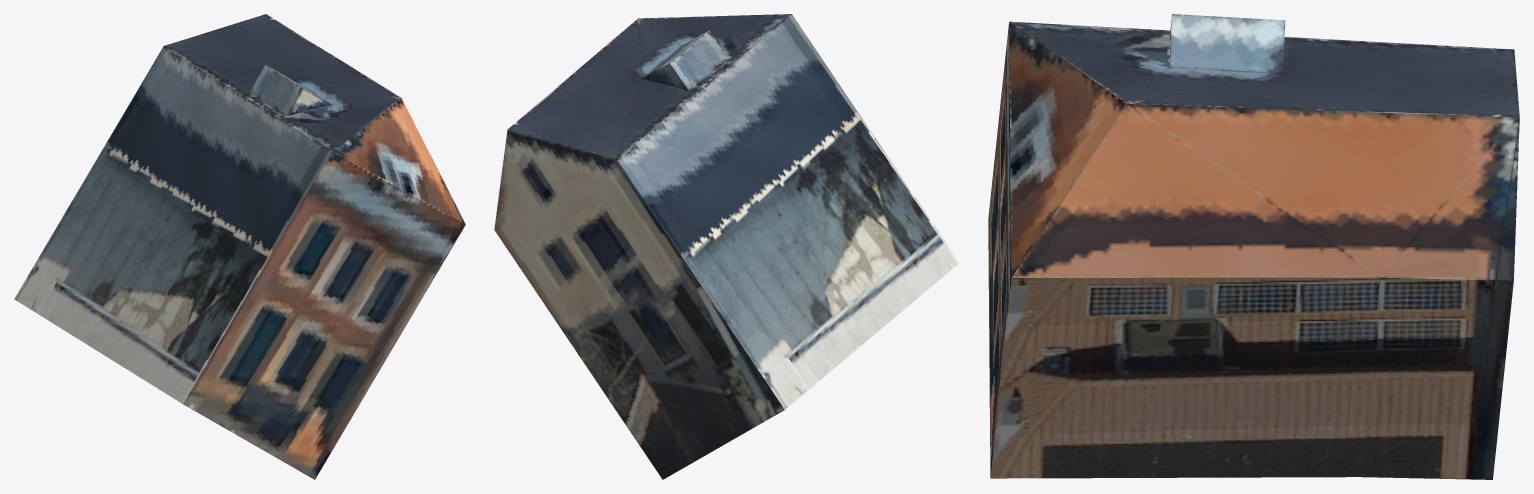
The picture shows the model from 3 angles, left to right: view 1: azimuth 30°, elevation 25°; view 2: azimuth 150°, elevation 25°; view 3: azimuth 270°, elevation 25°; orthographic projection. The views are drawn at different scales.
Parts seen in each view (by area): view 1: BAG_0599100000670784 (×6); view 2: BAG_0599100000670784 (×5); view 3: BAG_0599100000670784 (×4).
Boxes of the visible parts, x1=… form: BAG_0599100000670784 (×6): x1=14, y1=14, x2=465, y2=479; BAG_0599100000670784 (×5): x1=494, y1=14, x2=959, y2=479; BAG_0599100000670784 (×4): x1=988, y1=14, x2=1519, y2=479.
Size of the model in its own units: 10.15 by 11.44 by 10.77.
Materials: 6 (6 with a texture image).
